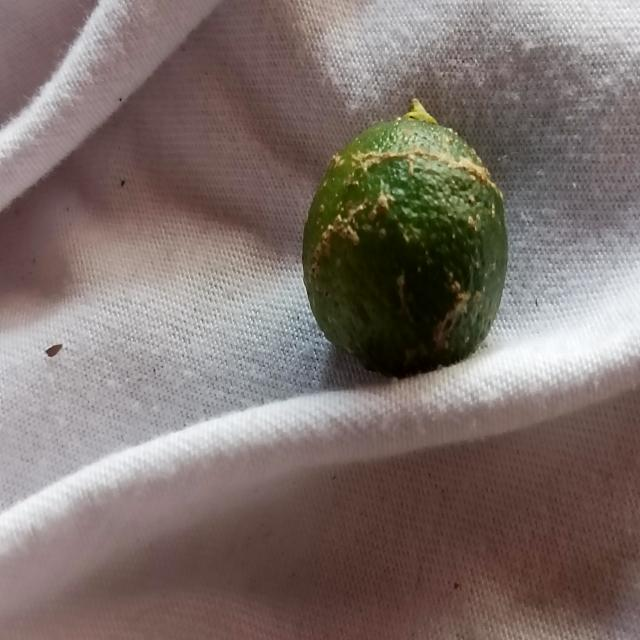scab: (299, 103, 515, 376)
